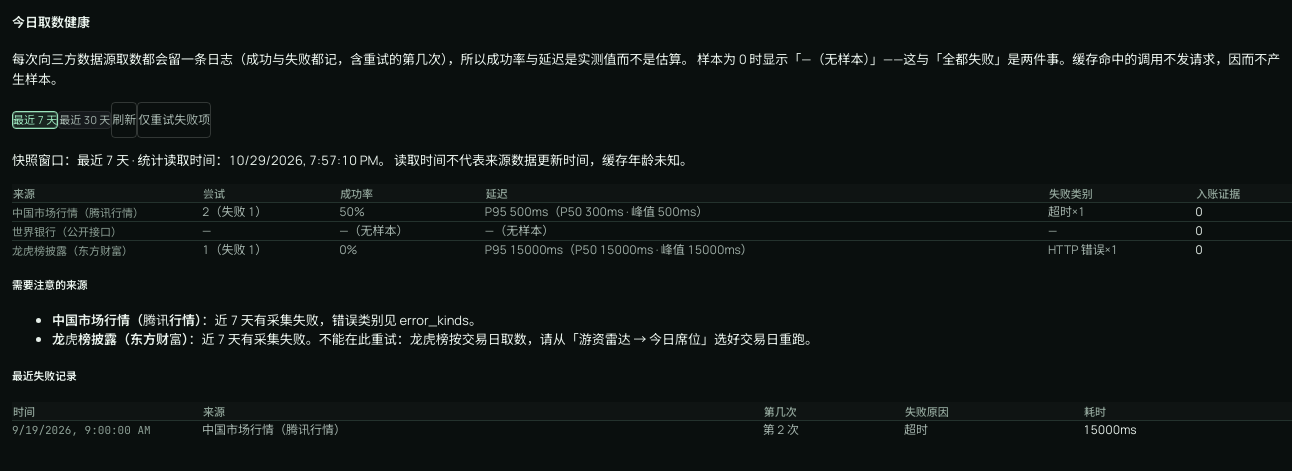
Test: F02/F03 今日取数健康 › 部分接口失败时不混合新统计和旧失败记录，并披露实际快照窗口
Expected: the text "50%" is shown, [339,202,485,221]
Click the button "最近 30 天" at (85, 120), box [58,111,111,129]
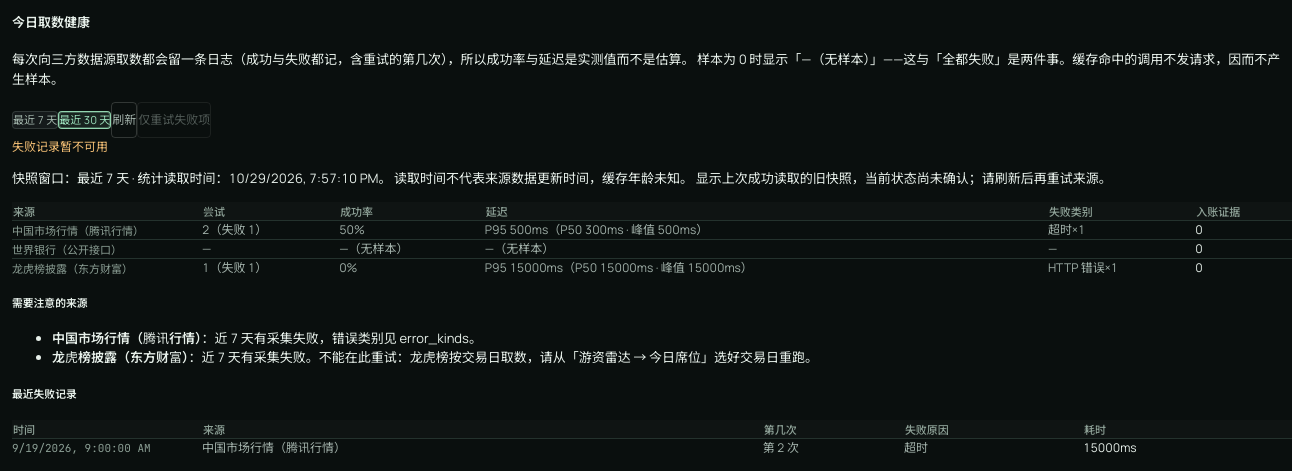
Expected: the text "50%" is shown, [339,220,485,239]
Now the message "失败记录暂不可用" is shown, box [12,138,108,155]
Now the text "显示上次成功读取的旧快照" is shown, box [693,169,1112,187]
